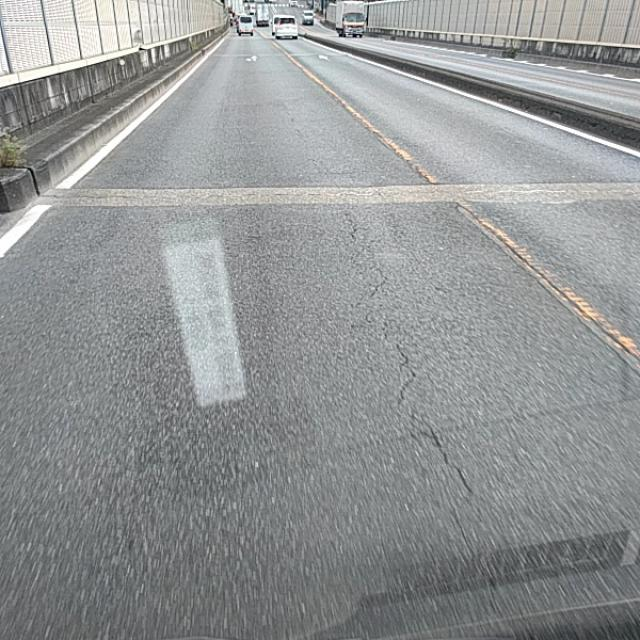pothole: (373, 335, 466, 447)
